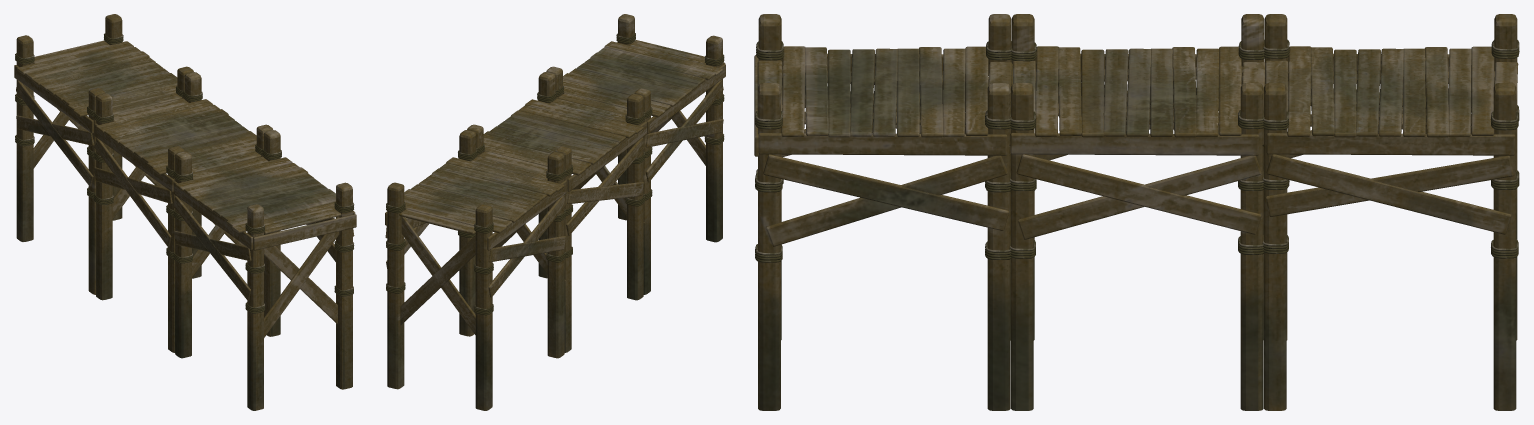
File: wooden_pier.obj
3 views of the same model, side by side, from view 1: azimuth 30°, elevation 25°; view 2: azimuth 150°, elevation 25°; view 3: azimuth 270°, elevation 25° (orthographic). The views are drawn at different scales.
Visible parts, largest first — view 1: Wooden_bridge_end; view 2: Wooden_bridge_end; view 3: Wooden_bridge_end.
Boxes of the visible parts, x1,y1,x2,y2 form: Wooden_bridge_end: [14, 14, 356, 410]; Wooden_bridge_end: [385, 14, 725, 410]; Wooden_bridge_end: [754, 14, 1519, 410].
Bounding box in the file's own units: 2.28 × 3.87 × 8.37.
1 material, 1 textured.
